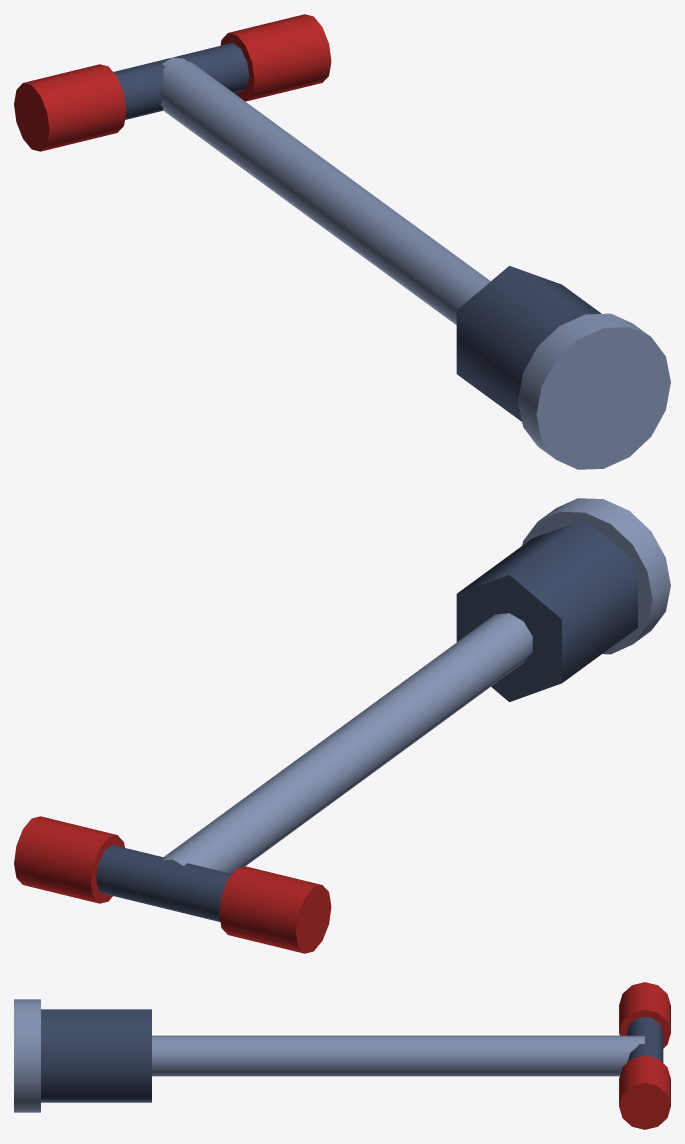
The model's file is cle_tire_fond.glb.
3 renders of one model, top to bottom at view 1: azimuth 30°, elevation 25°; view 2: azimuth 150°, elevation 25°; view 3: azimuth 270°, elevation 25°, orthographic. The views are drawn at different scales.
Visible parts, largest first — view 1: cle_tire_fond_mesh; view 2: cle_tire_fond_mesh; view 3: cle_tire_fond_mesh.
Part boxes in pixels (x1,y1,x2,y2): cle_tire_fond_mesh: [14, 14, 670, 469]; cle_tire_fond_mesh: [14, 498, 670, 953]; cle_tire_fond_mesh: [14, 982, 670, 1129].
Size of the model in its own units: 0.44 by 0.21 by 1.21.
